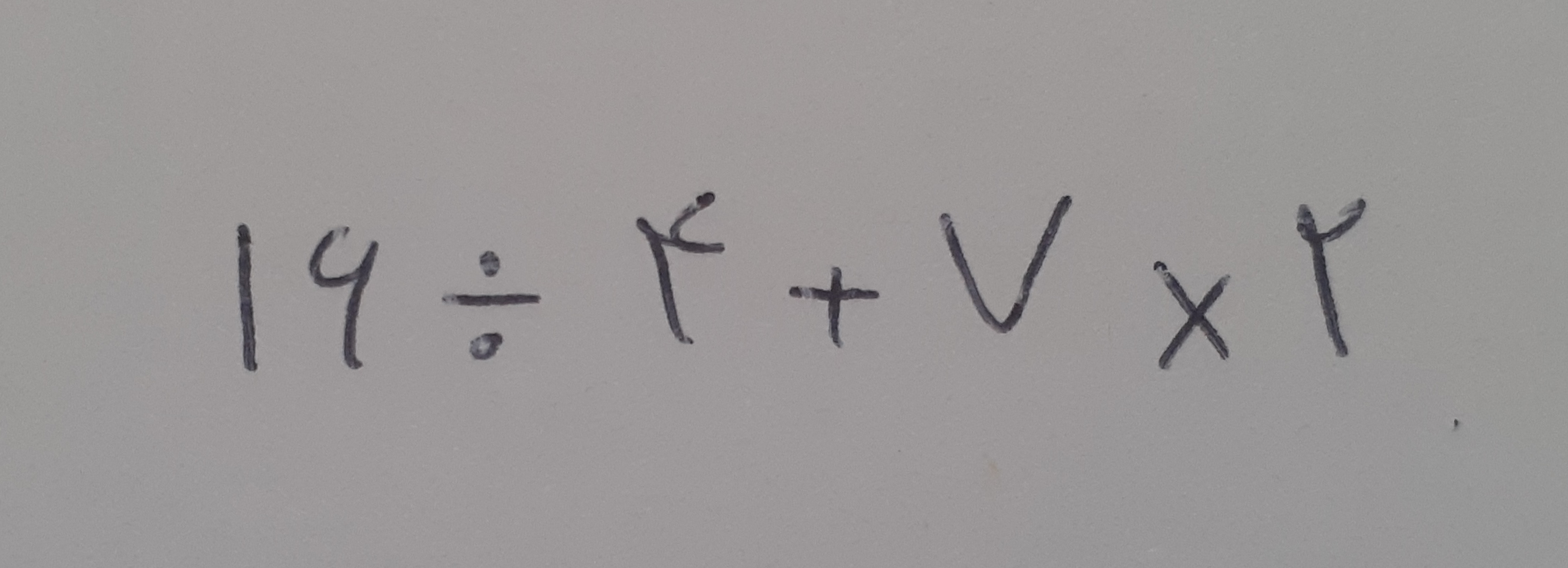character: (941, 195, 1073, 334), (637, 190, 726, 346), (1296, 198, 1366, 360), (442, 251, 543, 362), (309, 227, 379, 371), (1150, 260, 1231, 369), (789, 266, 880, 348), (235, 223, 259, 373)
